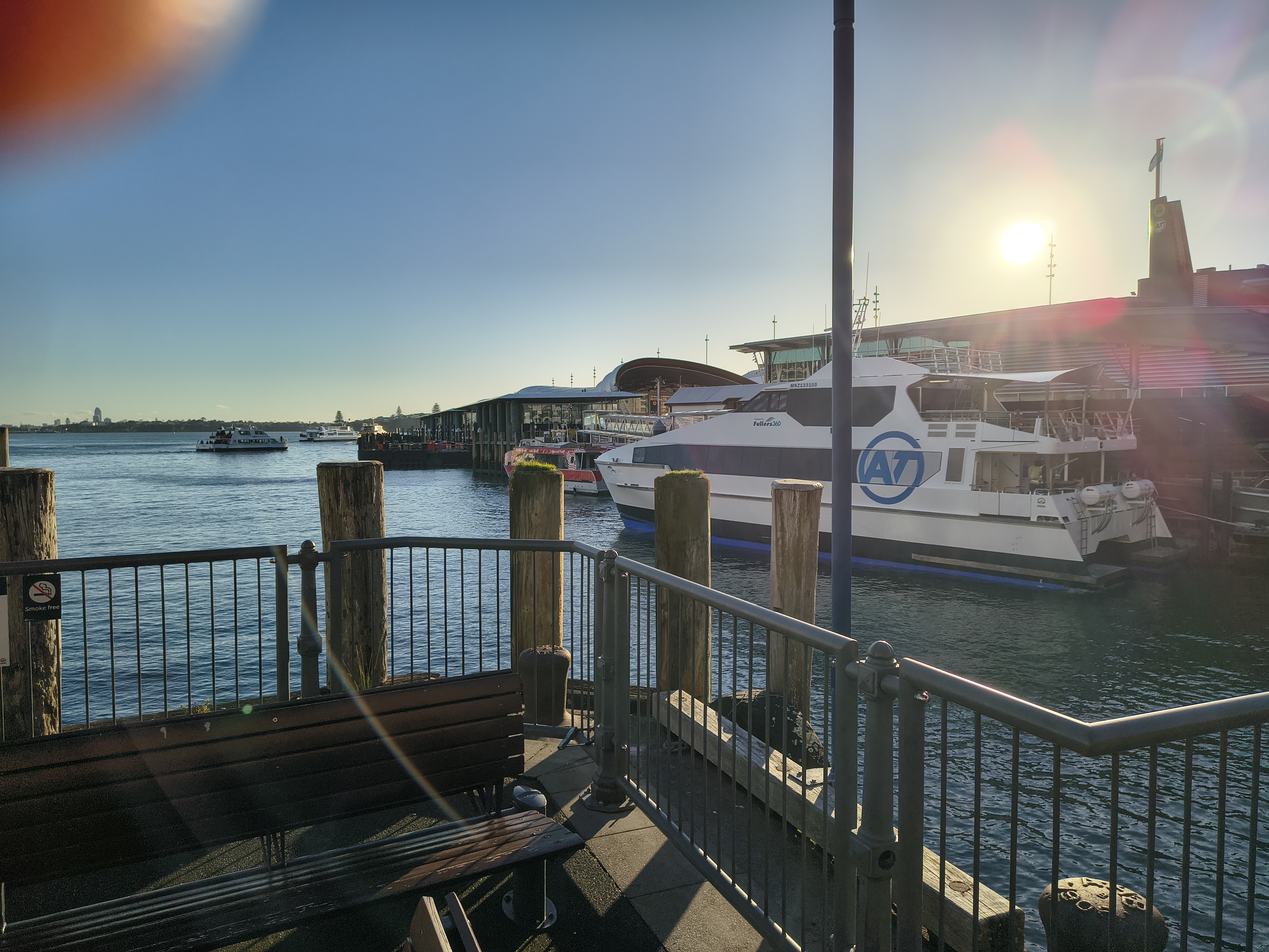ferry: (595, 296, 1192, 599), (196, 420, 283, 454)
